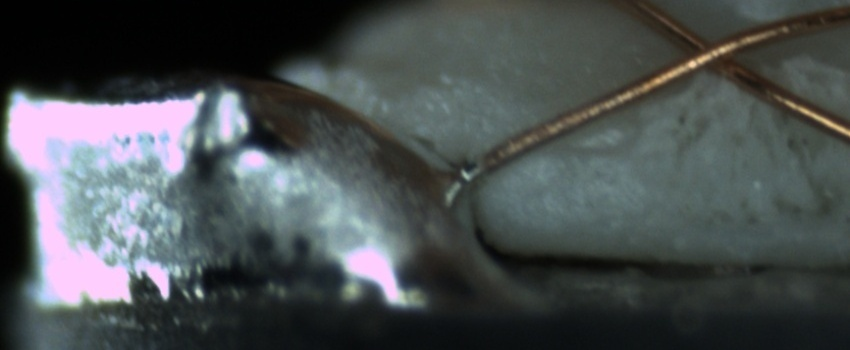CL: (660, 19, 762, 84)
DL: (522, 121, 642, 182)
